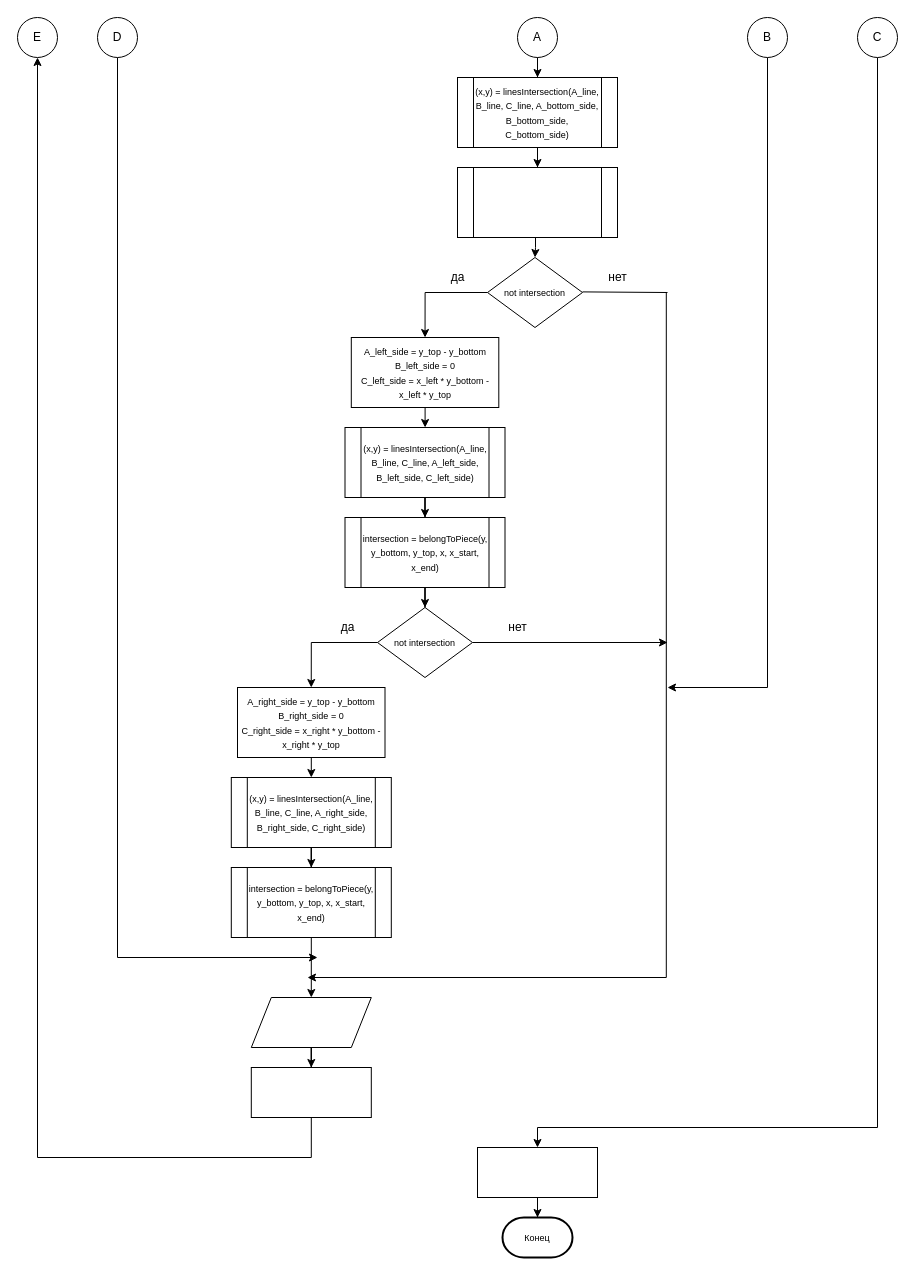
Image size: 915x1276. Some labels were removed from this diagram. The shapes that lost their labels are listed below. From the top down, each one's centre as x and y in pixels, then its label:
At point (537, 202): "intersection = belongToPiece(x, x_left, x_right, y, y_start, y_end)".
At point (310, 1022): "Вывод intersection".
At point (310, 1092): "i += 1".
At point (537, 1172): "Закрытие файлов input.txt и output.txt".
